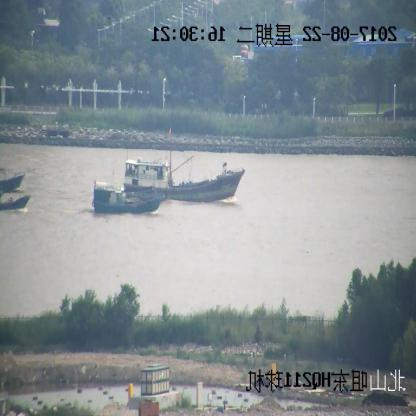Fishing Boat: (123, 126, 244, 202), (94, 182, 164, 216), (1, 195, 30, 213), (0, 171, 23, 192)
